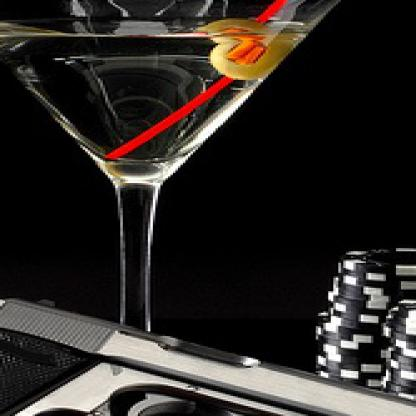gun: (0, 292, 414, 415)
